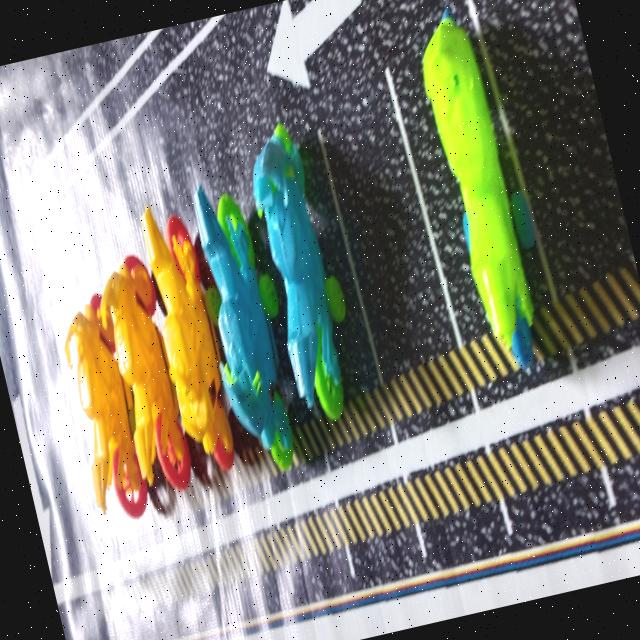occupied: (393, 18, 551, 345), (142, 206, 270, 499), (253, 123, 377, 419), (98, 254, 219, 545), (195, 185, 298, 470)
slots: (324, 71, 456, 380), (485, 21, 633, 295)
